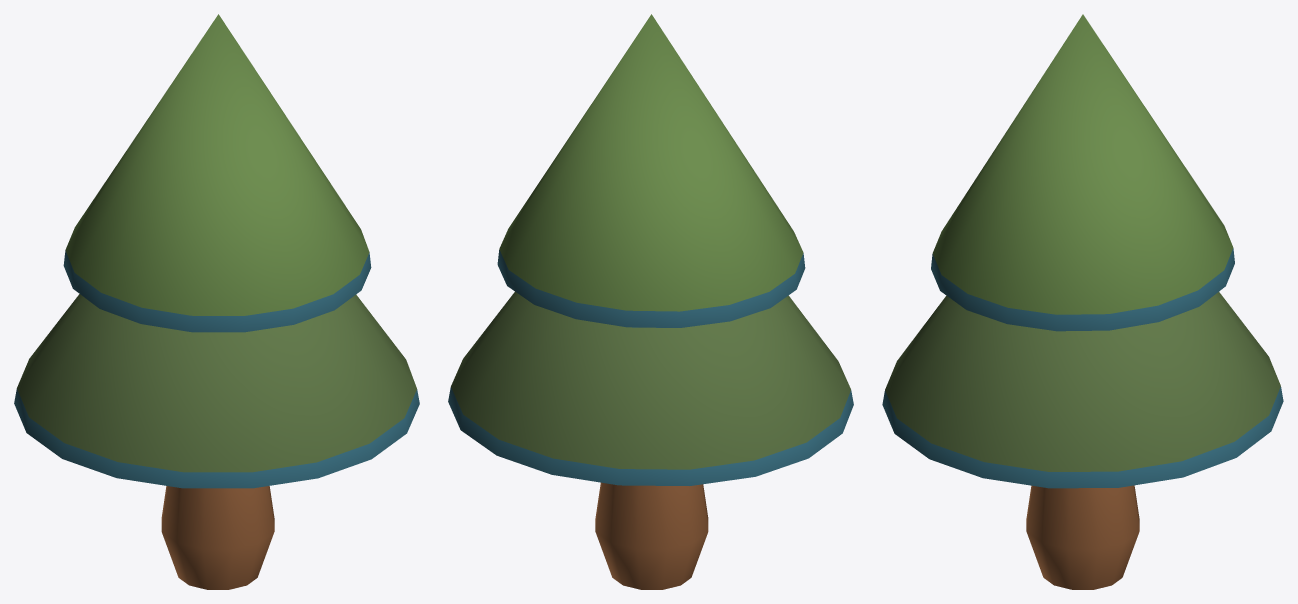
The model's file is itch_tiny_homely_house_tree.glb.
3 renders of one model, left to right at view 1: azimuth 30°, elevation 25°; view 2: azimuth 150°, elevation 25°; view 3: azimuth 270°, elevation 25°, orthographic.
Parts seen in each view (by area): view 1: tree; view 2: tree; view 3: tree.
Part boxes in pixels (x1=…): tree: x1=14, y1=14, x2=419, y2=589; tree: x1=448, y1=14, x2=853, y2=589; tree: x1=882, y1=14, x2=1283, y2=589.
Size of the model in its own units: 1.22 by 1.87 by 1.22.
